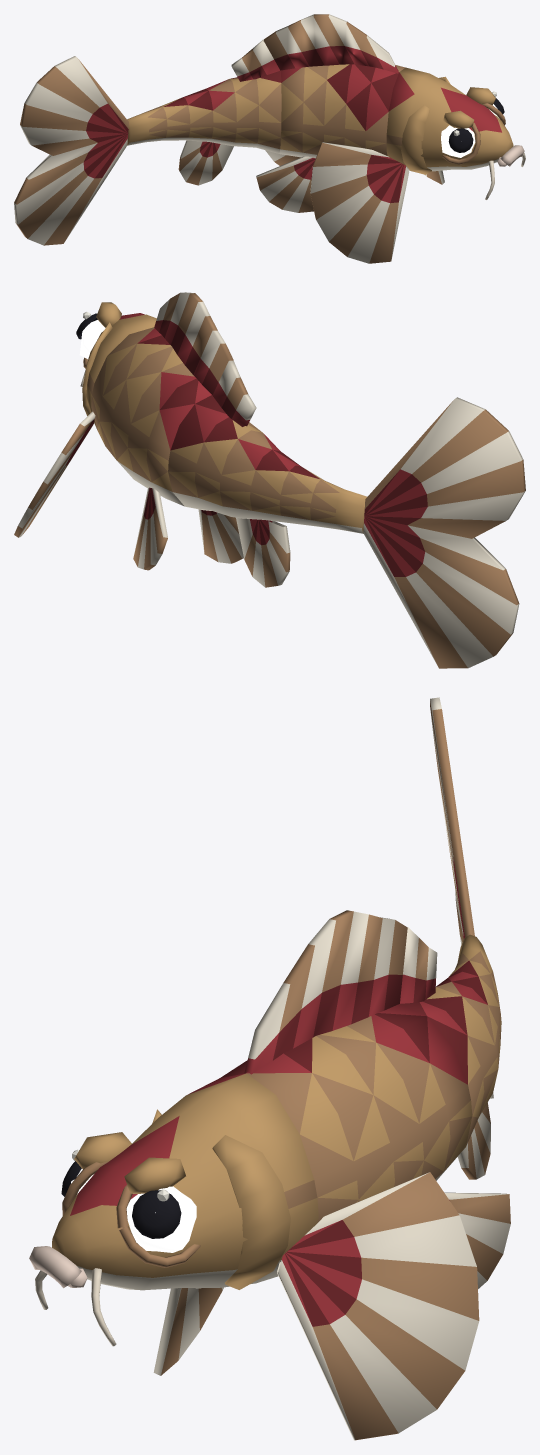
Rendered from carp-still-water.glb.
3 views of the same model, one above another, from view 1: azimuth 30°, elevation 25°; view 2: azimuth 150°, elevation 25°; view 3: azimuth 270°, elevation 25° (orthographic). The views are drawn at different scales.
Visible parts, largest first — view 1: wag_body_0, wag_body_2, wag_body_1, glide_fin_r, carp_head, pulse_gill_r, blink_eye_r; view 2: wag_body_2, wag_body_0, wag_body_1, carp_head, glide_fin_l, blink_eye_l, pulse_gill_l; view 3: wag_body_0, glide_fin_l, carp_head, wag_body_1, pulse_gill_l, blink_eye_l, wag_body_2, glide_fin_r.
Part boxes in pixels (x1,y1,x2,y2): wag_body_0: (256, 14, 405, 212); wag_body_2: (14, 56, 128, 245); wag_body_1: (127, 39, 281, 185); glide_fin_r: (310, 142, 409, 263); carp_head: (386, 67, 524, 171); pulse_gill_r: (401, 105, 431, 174); blink_eye_r: (441, 125, 475, 157); wag_body_2: (363, 397, 525, 668); wag_body_0: (91, 292, 243, 570); wag_body_1: (168, 360, 366, 587); carp_head: (83, 302, 156, 428); glide_fin_l: (14, 411, 95, 537); blink_eye_l: (76, 312, 105, 359); pulse_gill_l: (82, 322, 112, 415); wag_body_0: (220, 910, 510, 1288); glide_fin_l: (277, 1172, 479, 1440); carp_head: (29, 1073, 318, 1290); wag_body_1: (400, 927, 501, 1179); pulse_gill_l: (212, 1135, 290, 1289); blink_eye_l: (126, 1186, 196, 1252); wag_body_2: (430, 697, 493, 1098); glide_fin_r: (153, 1287, 223, 1375).
Size of the model in its own units: 0.6444 by 0.3223 by 0.3197.
